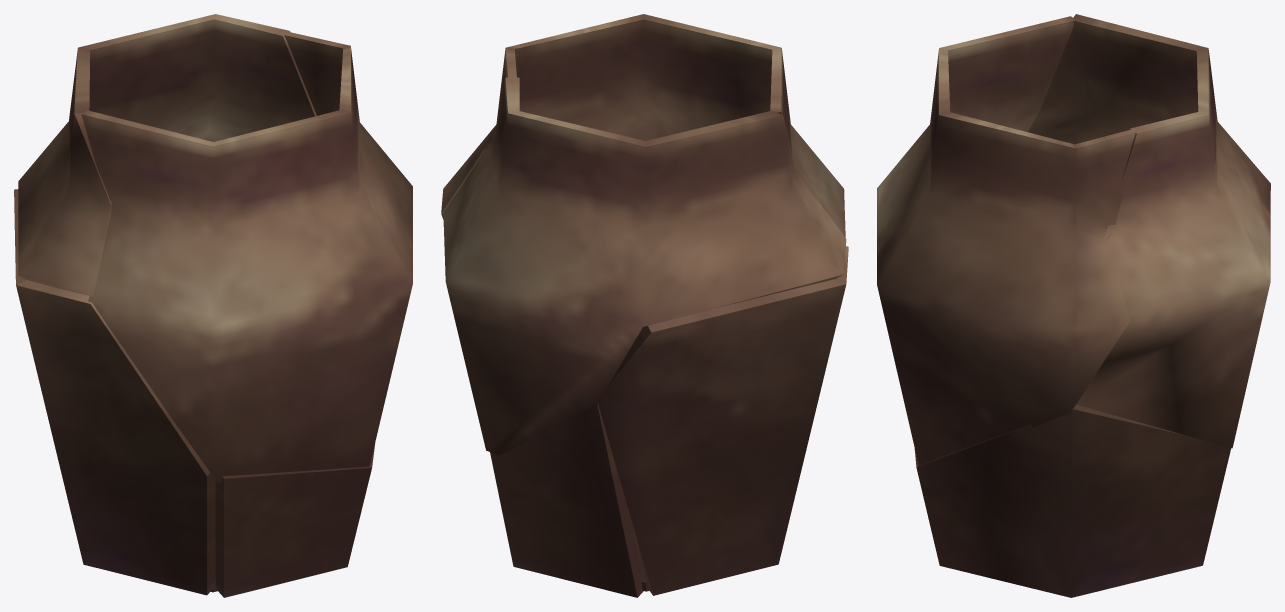
The model's file is guanzi02.FBX.
3 renders of one model, left to right at view 1: azimuth 30°, elevation 25°; view 2: azimuth 150°, elevation 25°; view 3: azimuth 270°, elevation 25°, orthographic.
Visible parts, largest first — view 1: 对象002, common_city_guanzi02_po, 对象003, 对象001; view 2: 对象003, common_city_guanzi02_po, 对象002, 对象001; view 3: 对象002, 对象003, 对象001.
Part boxes in pixels (x1=…): 对象002: x1=81, y1=32, x2=412, y2=482; common_city_guanzi02_po: x1=14, y1=189, x2=215, y2=595; 对象003: x1=18, y1=14, x2=316, y2=296; 对象001: x1=215, y1=443, x2=375, y2=597; 对象003: x1=443, y1=77, x2=846, y2=455; common_city_guanzi02_po: x1=598, y1=246, x2=848, y2=595; 对象002: x1=441, y1=14, x2=845, y2=247; 对象001: x1=490, y1=403, x2=644, y2=597; 对象002: x1=877, y1=16, x2=1137, y2=465; 对象003: x1=1028, y1=14, x2=1270, y2=448; 对象001: x1=914, y1=404, x2=1231, y2=597.
Bounding box in the file's own units: 0.7943 × 0.862 × 0.6802.
